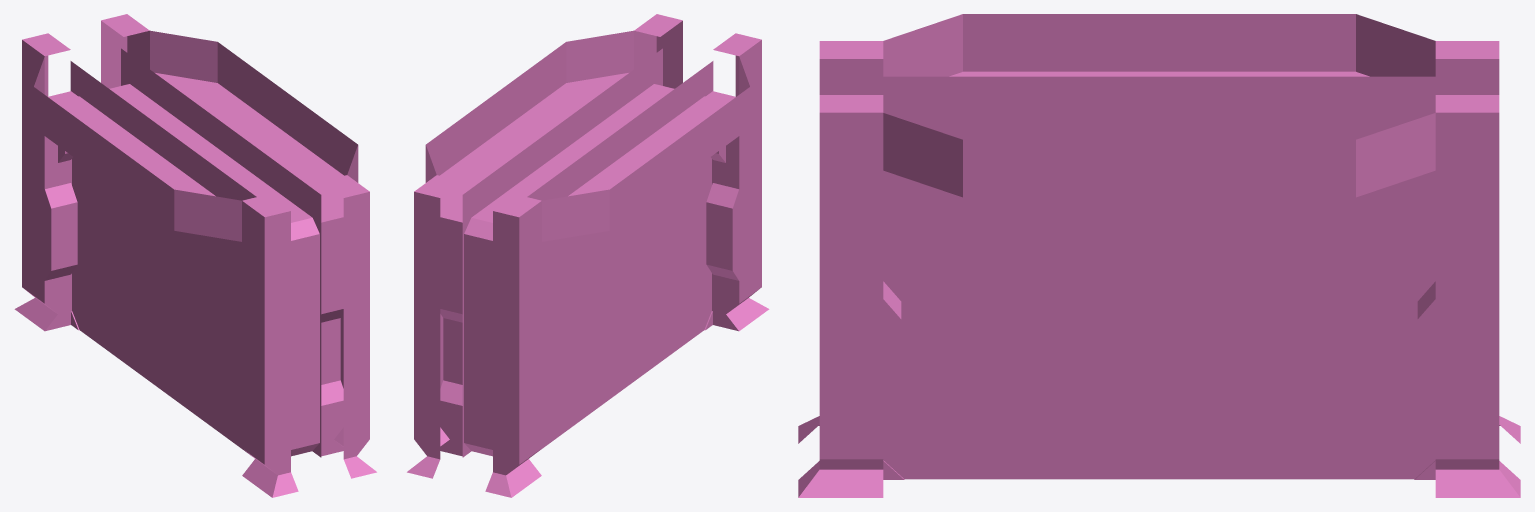
Rendered from CollisionMesh_Door.fbx.
The picture shows the model from 3 angles, left to right: view 1: azimuth 30°, elevation 25°; view 2: azimuth 150°, elevation 25°; view 3: azimuth 270°, elevation 25°; orthographic projection. The views are drawn at different scales.
Visible parts, largest first — view 1: Collision_Doorway, Collision_Door; view 2: Collision_Doorway, Collision_Door; view 3: Collision_Door, Collision_Doorway.
Part boxes in pixels (x1,y1,x2,y2): Collision_Doorway: [14, 14, 376, 497]; Collision_Door: [70, 48, 321, 457]; Collision_Doorway: [407, 14, 769, 497]; Collision_Door: [462, 48, 713, 457]; Collision_Door: [879, 76, 1439, 479]; Collision_Doorway: [798, 14, 1520, 497].
Bounding box in the file's own units: 3.5 × 5 × 8.5.
